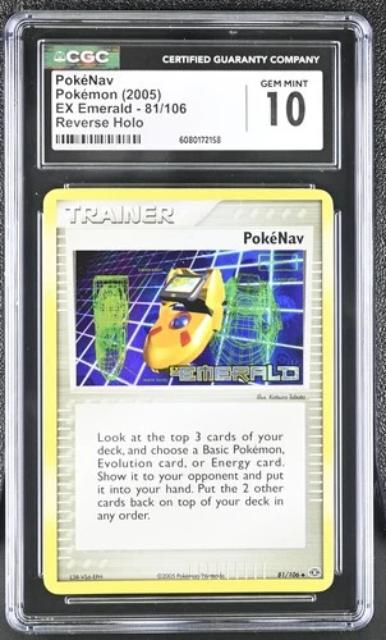Card: (39, 184, 340, 599)
Name: (236, 227, 308, 249)
